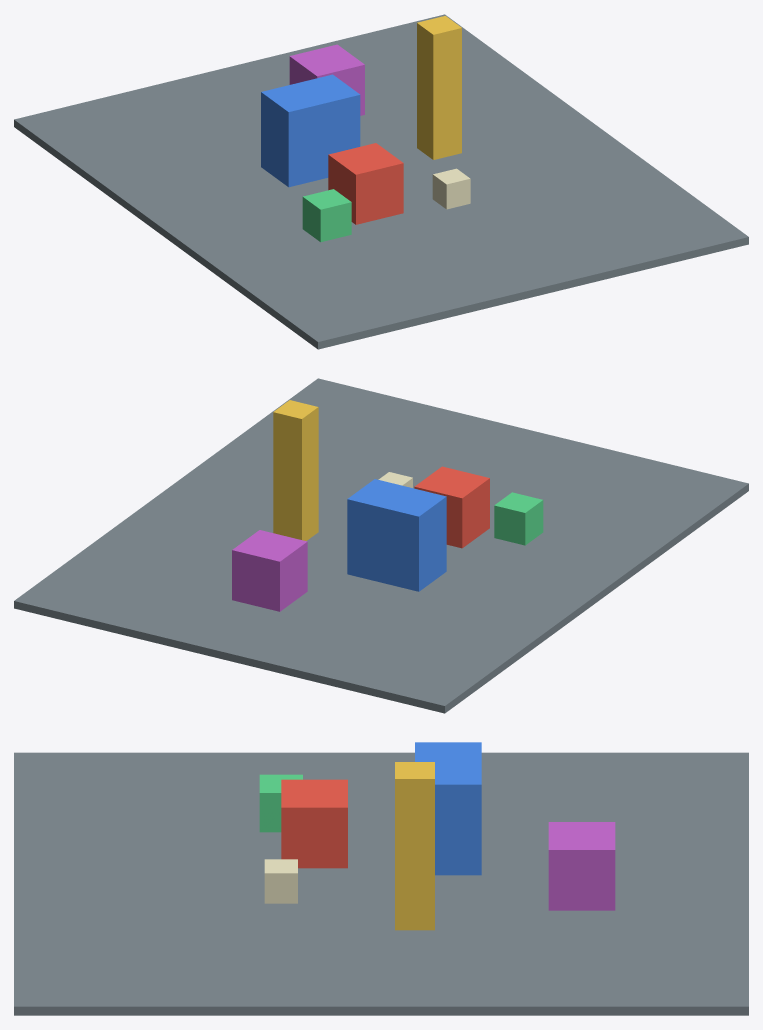
File: cordel_scene.gltf
3 views of the same model, one above another, from view 1: azimuth 30°, elevation 25°; view 2: azimuth 150°, elevation 25°; view 3: azimuth 270°, elevation 25° (orthographic). The views are drawn at different scales.
Visible parts, largest first — view 1: ground, far_blue, tall_gold, near_red, distant_purple, green, small_cream; view 2: ground, far_blue, tall_gold, distant_purple, near_red, green; view 3: ground, tall_gold, far_blue, distant_purple, near_red, small_cream, green.
Part boxes in pixels (<box>): ground: <box>14,14,748,349</box>; far_blue: <box>261,74,360,187</box>; tall_gold: <box>417,16,461,159</box>; near_red: <box>328,143,403,224</box>; distant_purple: <box>289,44,364,115</box>; green: <box>302,189,351,242</box>; small_cream: <box>432,168,470,209</box>; ground: <box>14,378,748,713</box>; far_blue: <box>347,479,446,591</box>; tall_gold: <box>273,400,318,540</box>; distant_purple: <box>232,530,307,611</box>; near_red: <box>414,466,489,548</box>; green: <box>494,492,543,545</box>; ground: <box>14,752,748,1015</box>; tall_gold: <box>395,762,434,930</box>; far_blue: <box>415,742,481,875</box>; distant_purple: <box>548,822,615,910</box>; near_red: <box>281,779,347,868</box>; small_cream: <box>264,859,297,903</box>; green: <box>259,774,302,832</box>.
Bounding box in the file's own units: 18 × 5.3 × 22.
